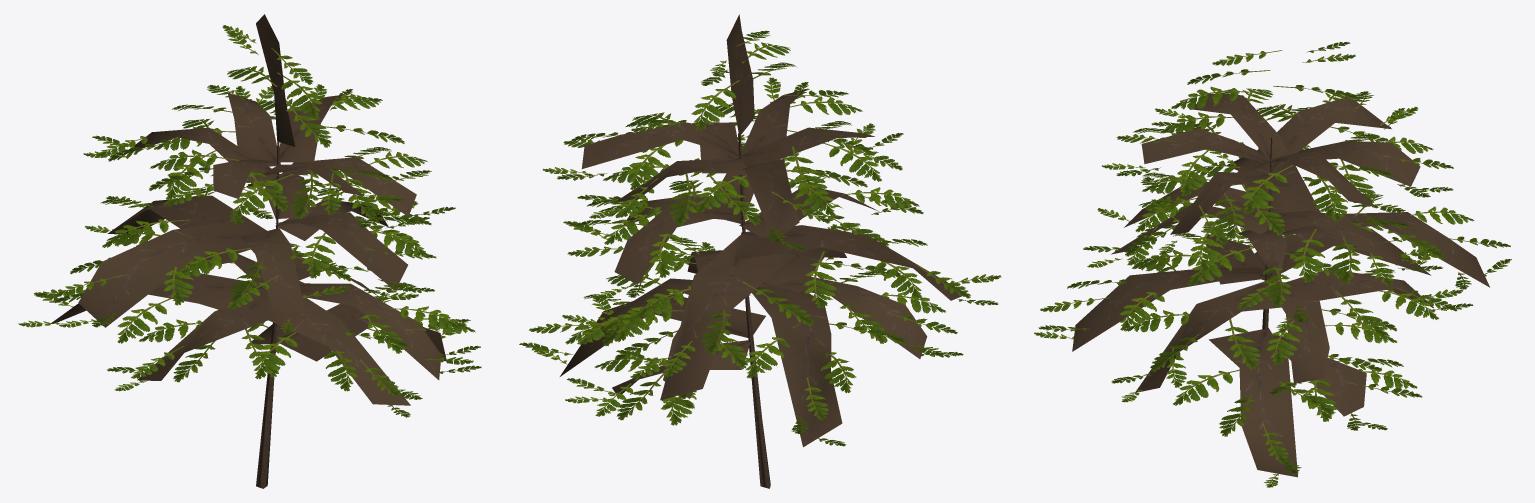
Rendered from forest_Bush2_LOD1.fbx.
3 renders of one model, left to right at view 1: azimuth 30°, elevation 25°; view 2: azimuth 150°, elevation 25°; view 3: azimuth 270°, elevation 25°, orthographic. The views are drawn at different scales.
Visible parts, largest first — view 1: StaticMeshActor_34_StaticMeshComponent0.001; view 2: StaticMeshActor_34_StaticMeshComponent0.001; view 3: StaticMeshActor_34_StaticMeshComponent0.001.
Boxes of the visible parts, <box> form: StaticMeshActor_34_StaticMeshComponent0.001: <box>18,14,481,488</box>; StaticMeshActor_34_StaticMeshComponent0.001: <box>519,14,1001,488</box>; StaticMeshActor_34_StaticMeshComponent0.001: <box>1034,42,1511,487</box>.
Bounding box in the file's own units: 3.49 × 3.51 × 3.4.
